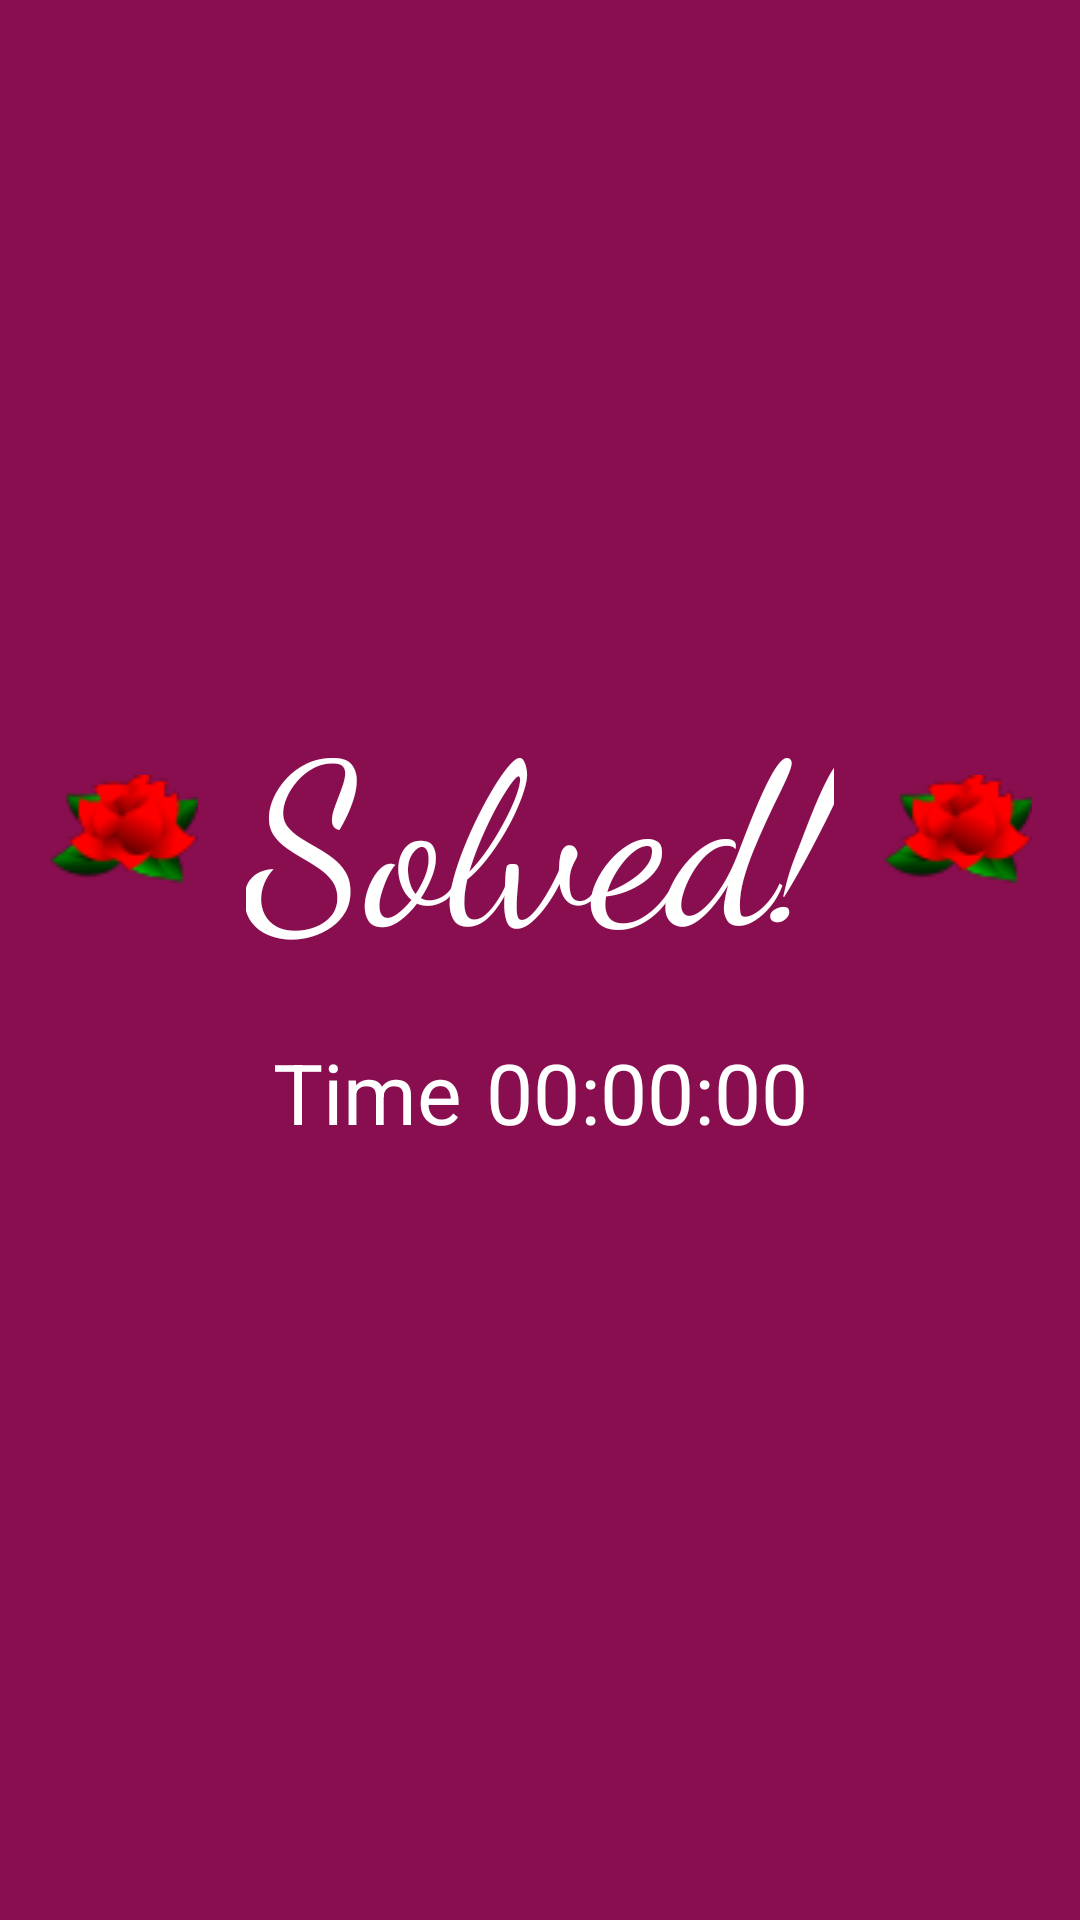

Icons on this 1080 x 1920 Android screen, each with the point to tap as (x=x, y=y):
rose: (x=124, y=829), (x=958, y=829)
